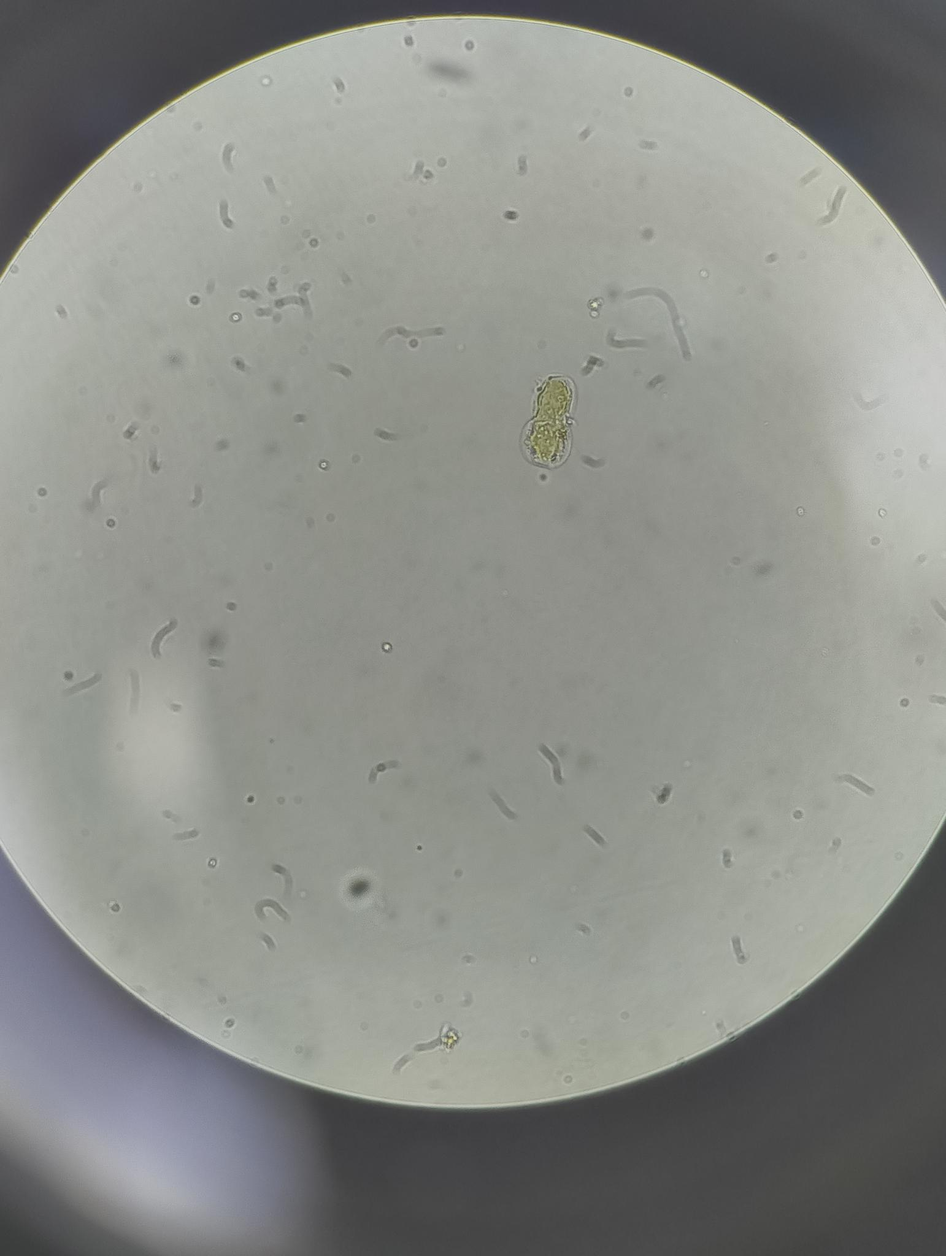Euglena: (514, 362, 588, 479)
